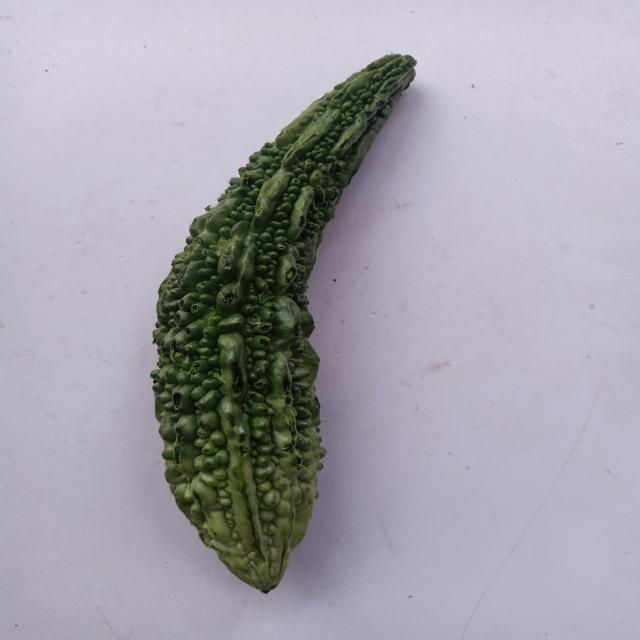Bitter Gourd: (125, 34, 426, 605)
